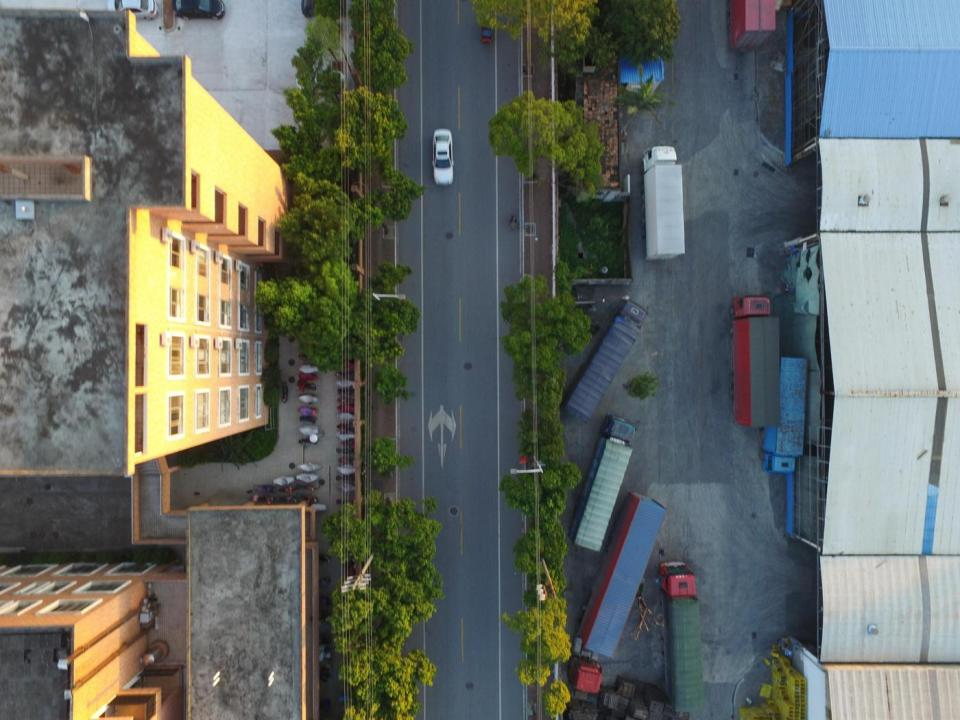bus: (479, 0, 495, 43)
car: (432, 127, 454, 186), (171, 0, 225, 21), (105, 0, 156, 21)
truck: (568, 493, 666, 696), (563, 296, 651, 424), (568, 414, 634, 553), (729, 295, 783, 429), (656, 560, 702, 713), (761, 356, 810, 476), (641, 146, 686, 261), (731, 0, 778, 53)
